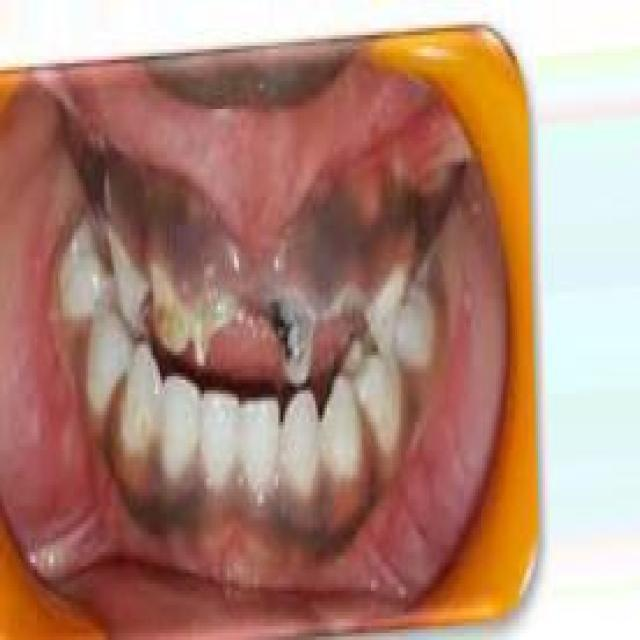caries: (268, 284, 329, 386), (148, 270, 196, 364), (188, 287, 244, 366), (328, 274, 385, 349)
